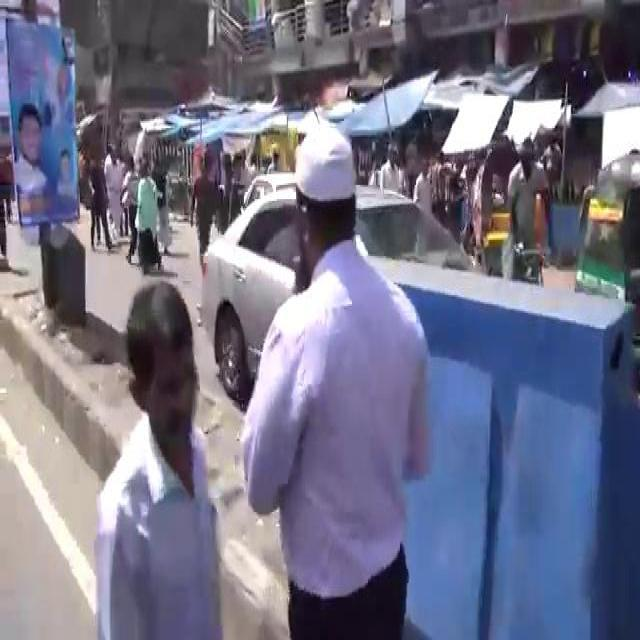car: (195, 173, 490, 449), (232, 170, 298, 214)
rickshaw: (468, 133, 550, 290)
three wheelers -CNG-: (571, 134, 639, 318)
